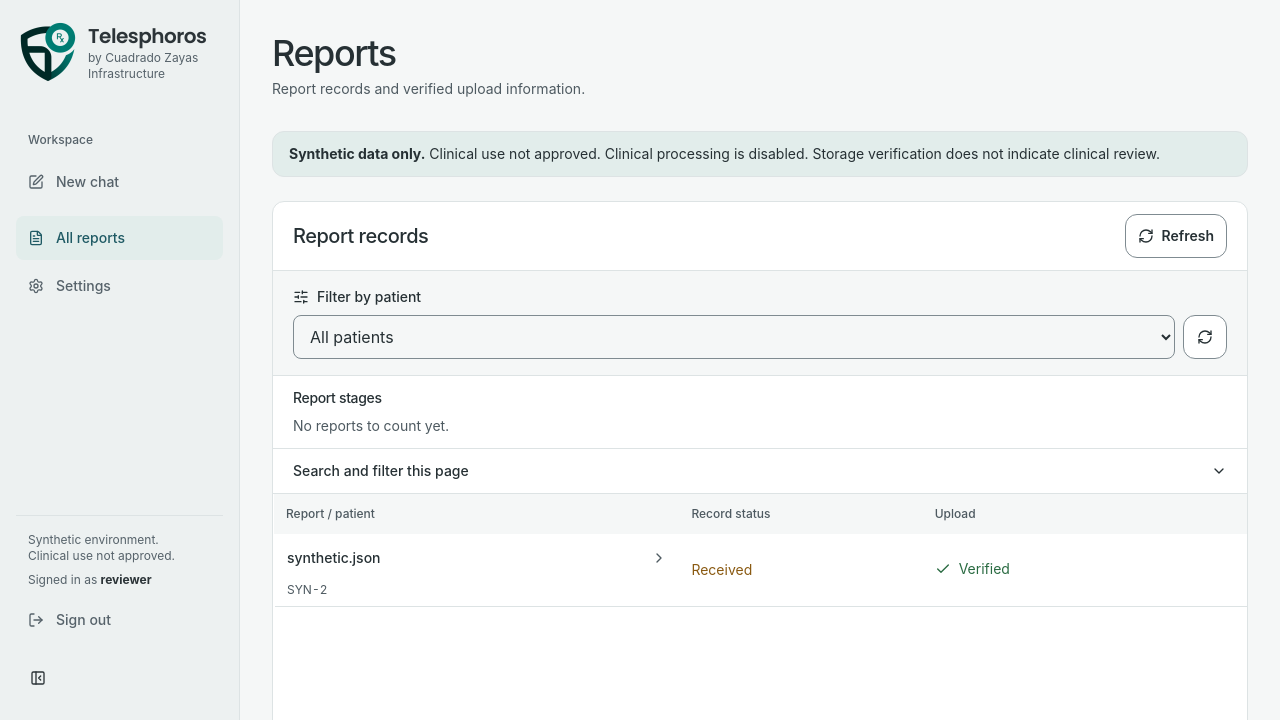
Test: reports page with real auth and route guards › returns an emptied later page to page one while retaining the patient filter
Check: the button with aria-label "Open synthetic.json" is shown, box [287,534,667,582]
Select "SYN-2" in the dropdown labelled "Filter by patient" at (734, 337), box [293,315,1175,359]
(page scrolled)
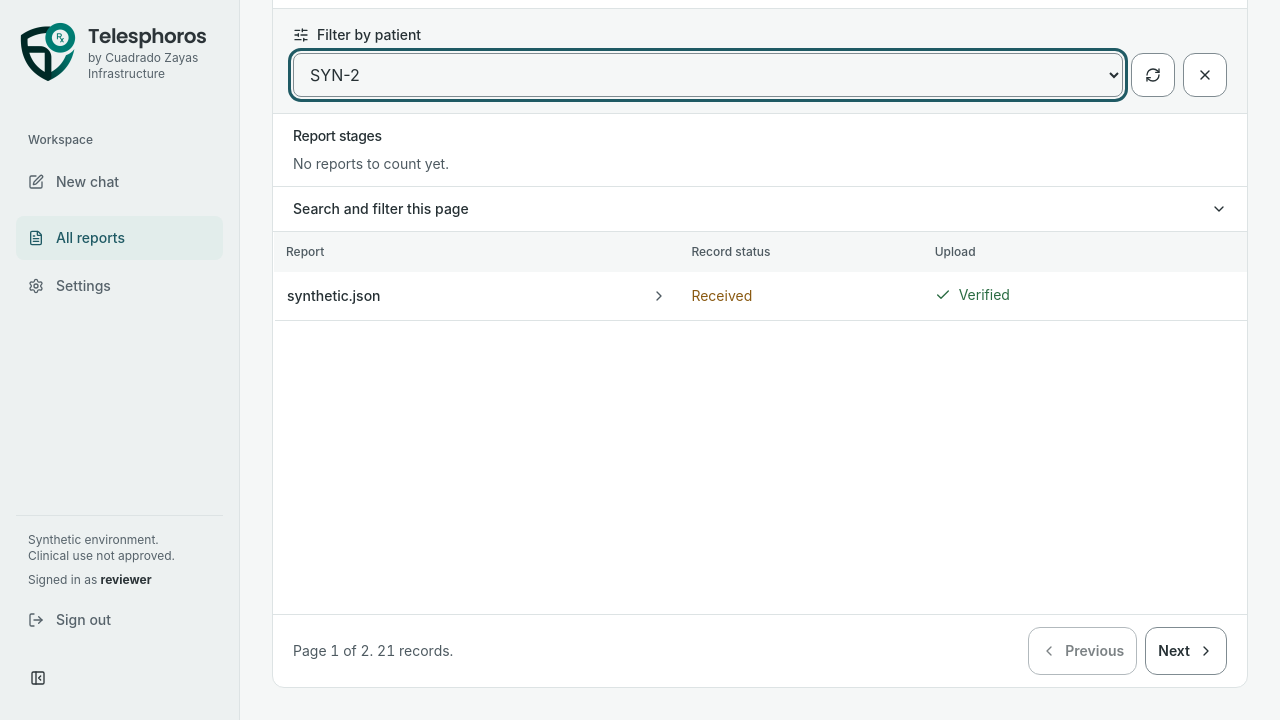
Click the button with aria-label "Next report page" at (1186, 651), box [1145,627,1227,675]
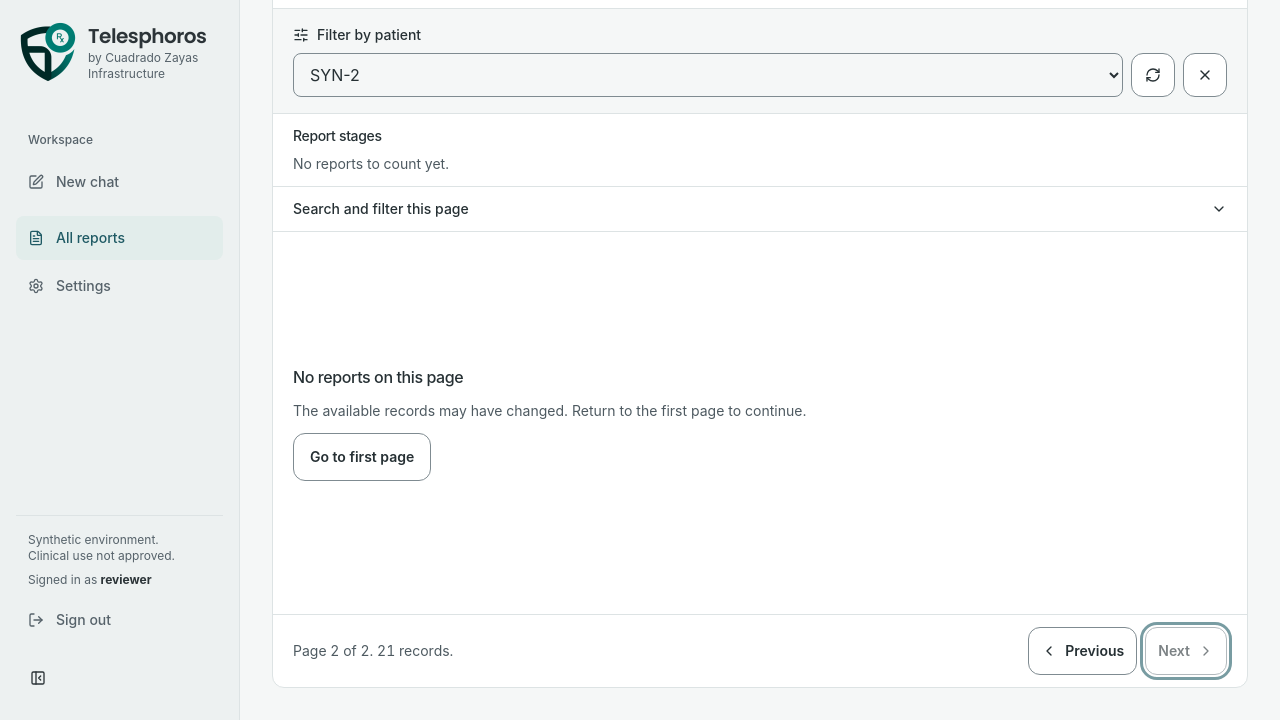
Click the button "Go to first page" at (362, 457), box [293,433,431,481]
(page scrolled)
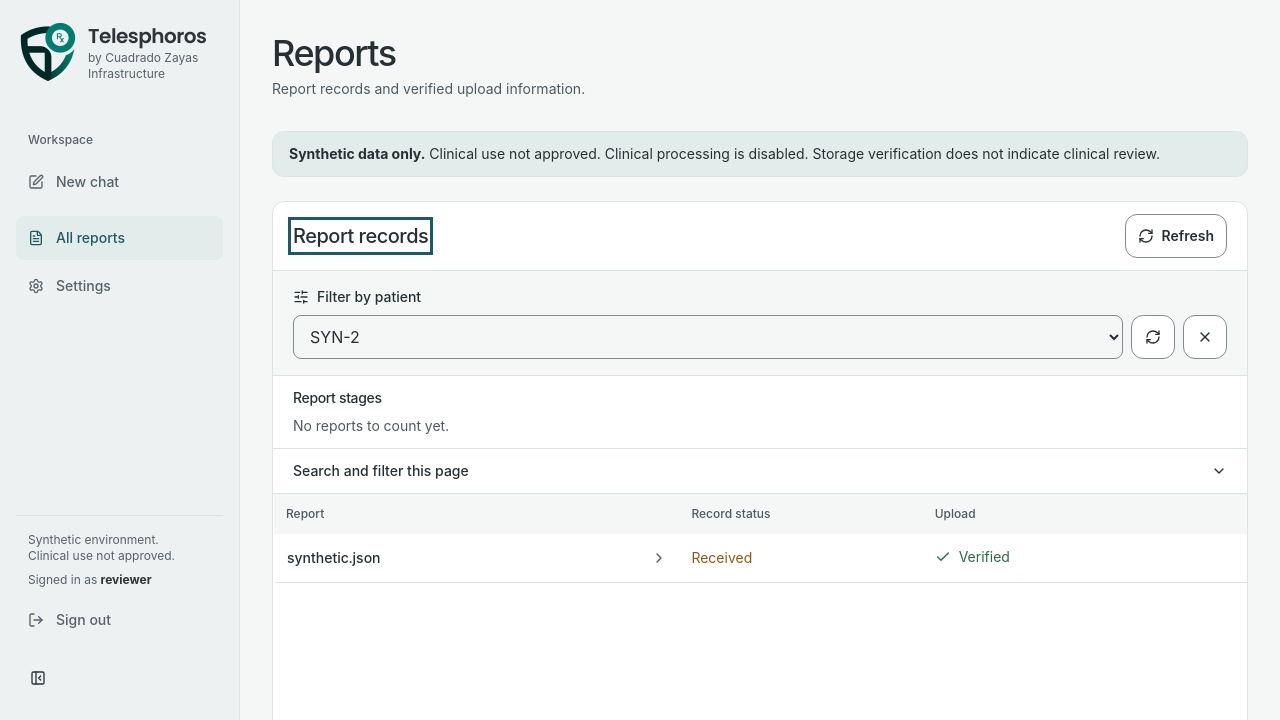
Check: the button with aria-label "Open synthetic.json" is shown, box [287,534,667,582]
